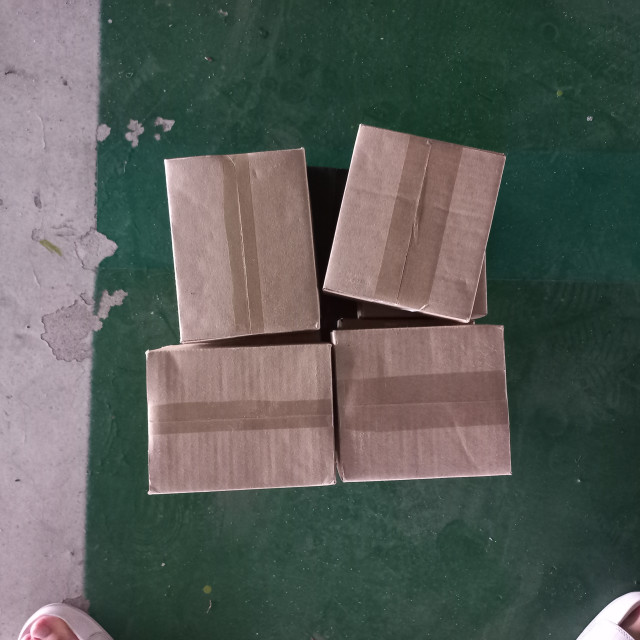box: (319, 117, 508, 323), (161, 141, 324, 346), (143, 336, 337, 499), (330, 318, 513, 489)
